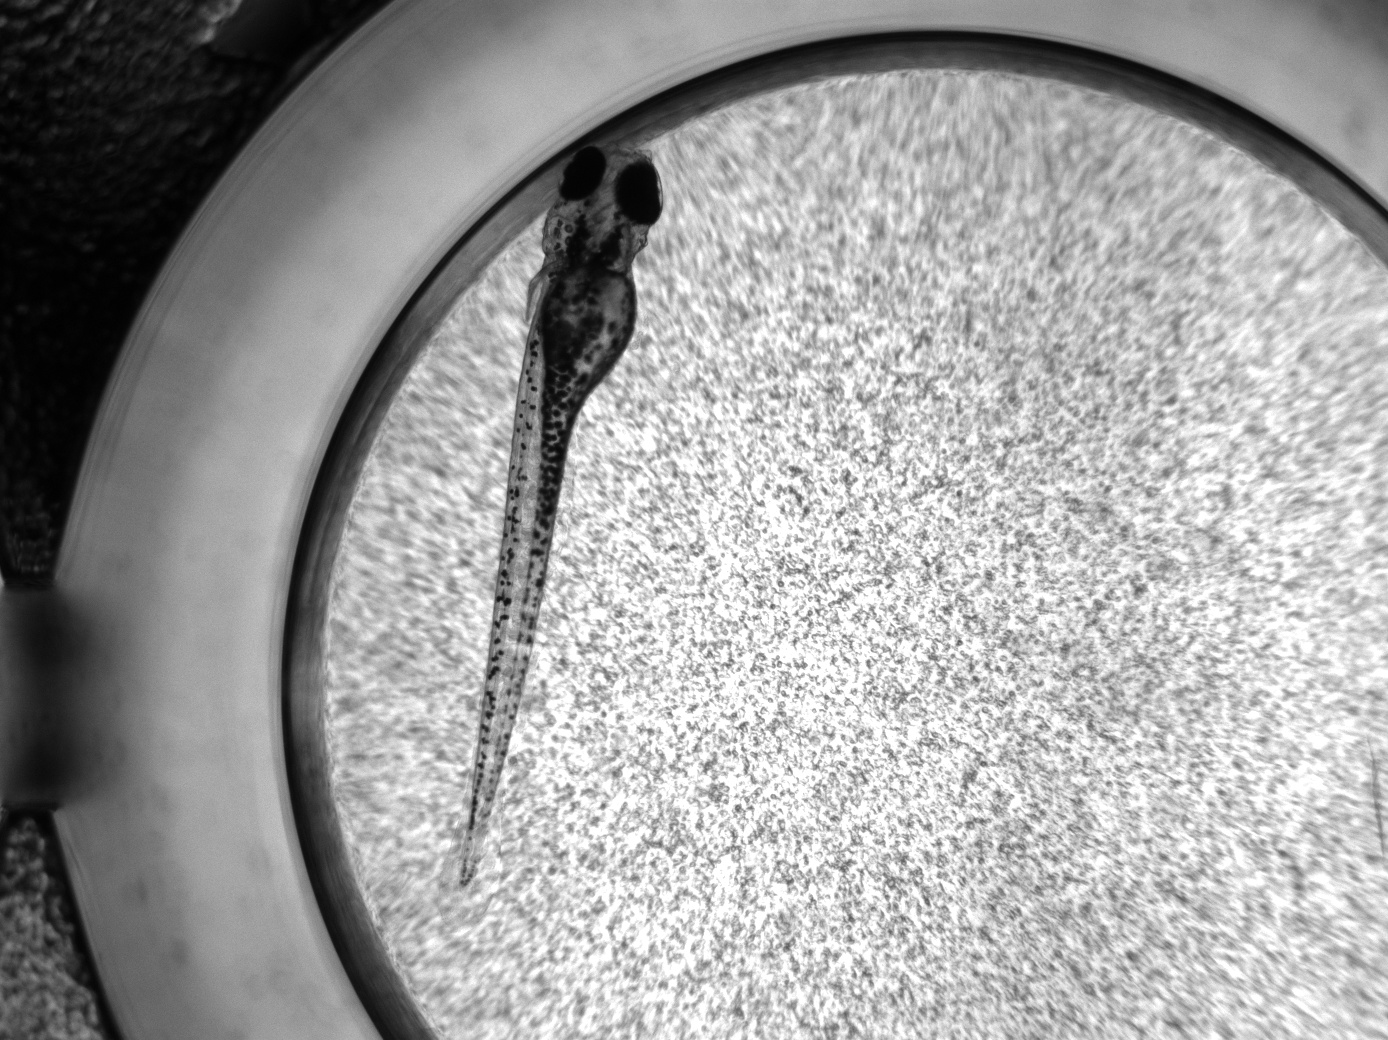embryo: (459, 143, 662, 888)
eye: (613, 158, 663, 223), (558, 145, 606, 200)
yolksac: (538, 265, 638, 380)
